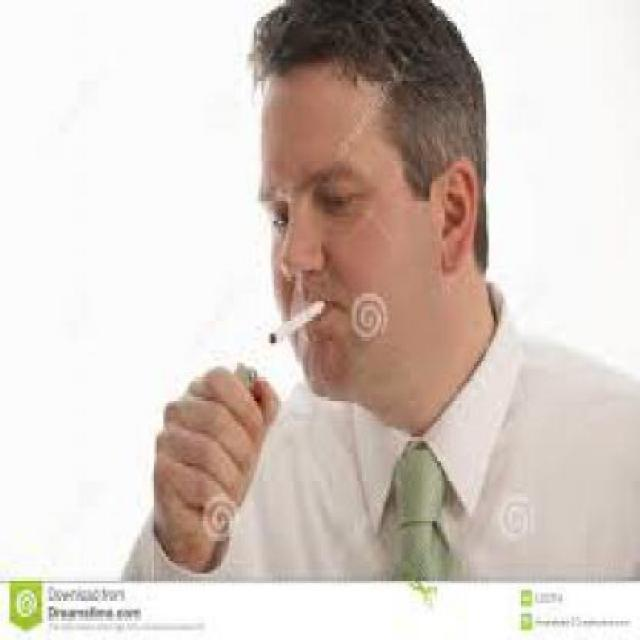cigarette: (266, 293, 328, 350)
